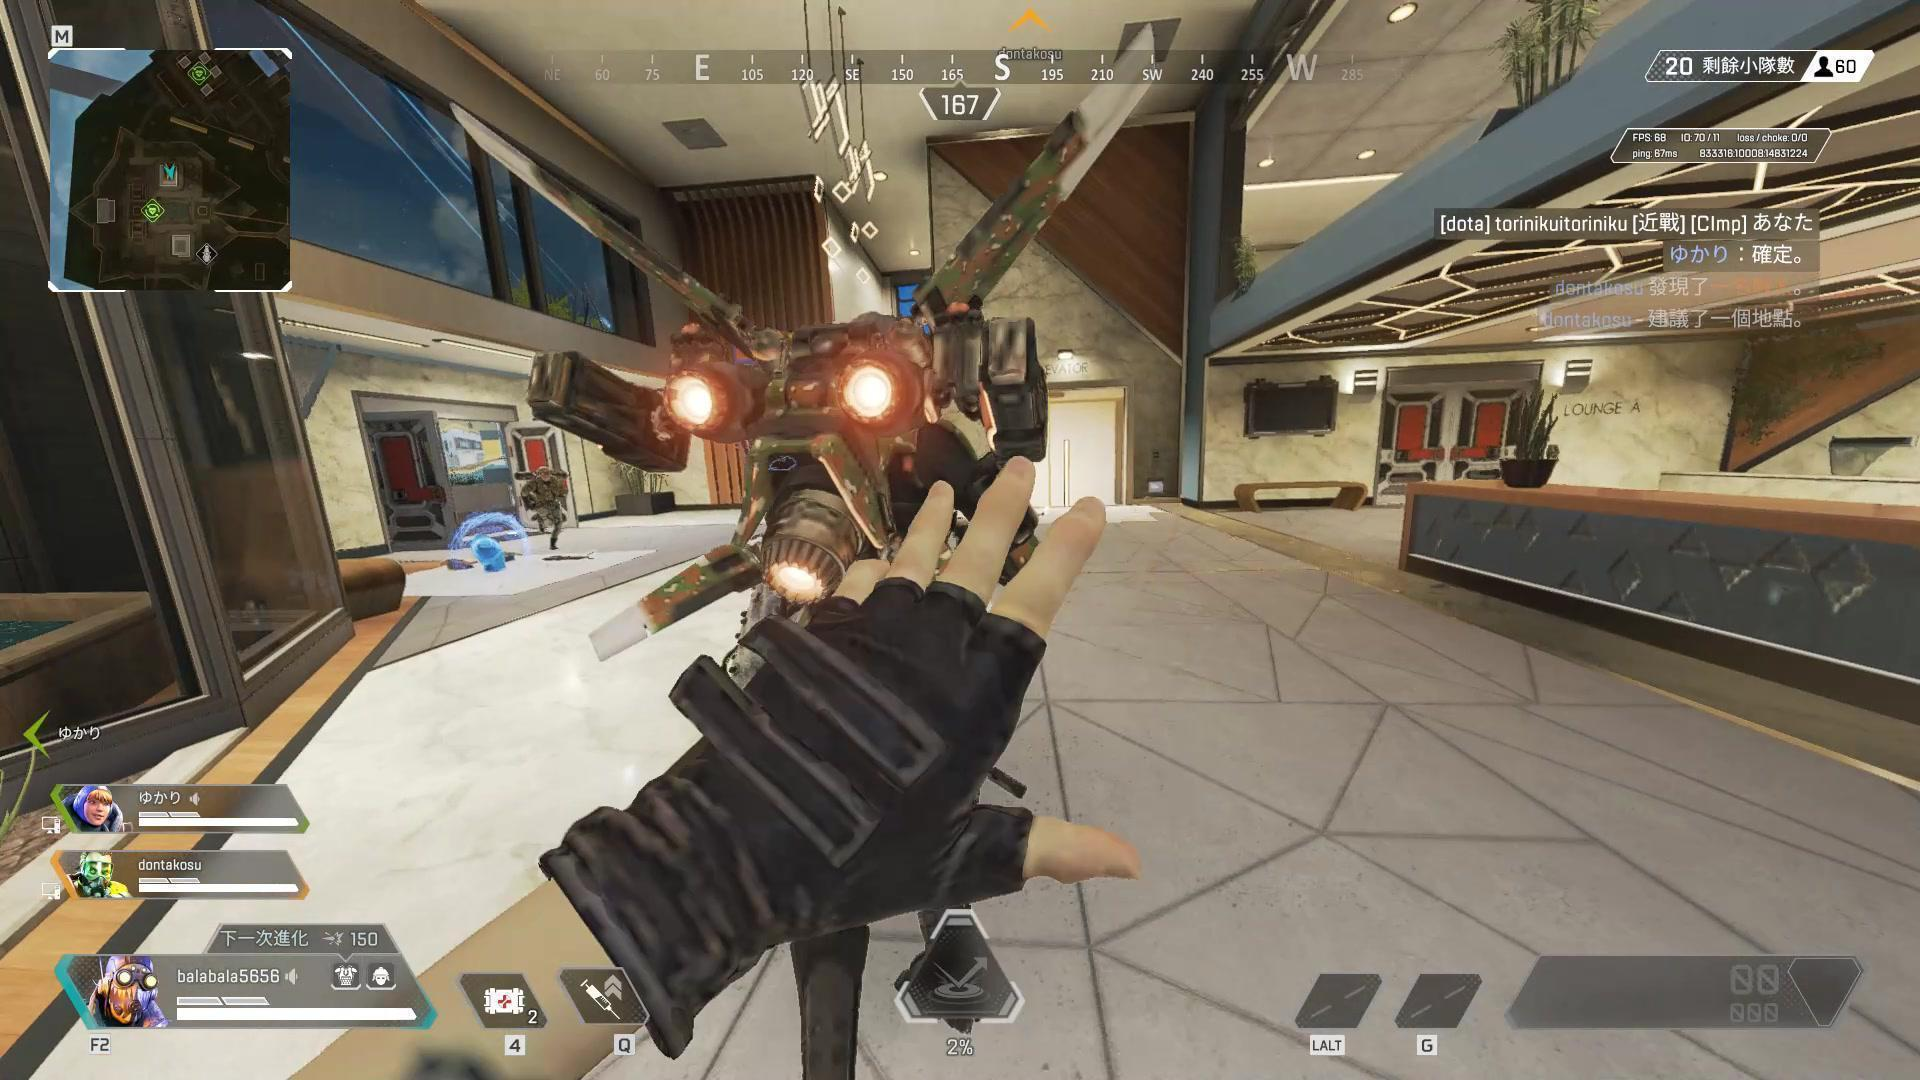avatar: (519, 465, 571, 551)
